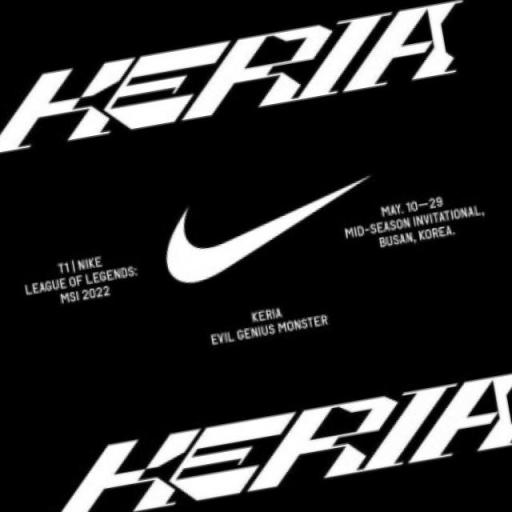Nike: (145, 166, 390, 296)
